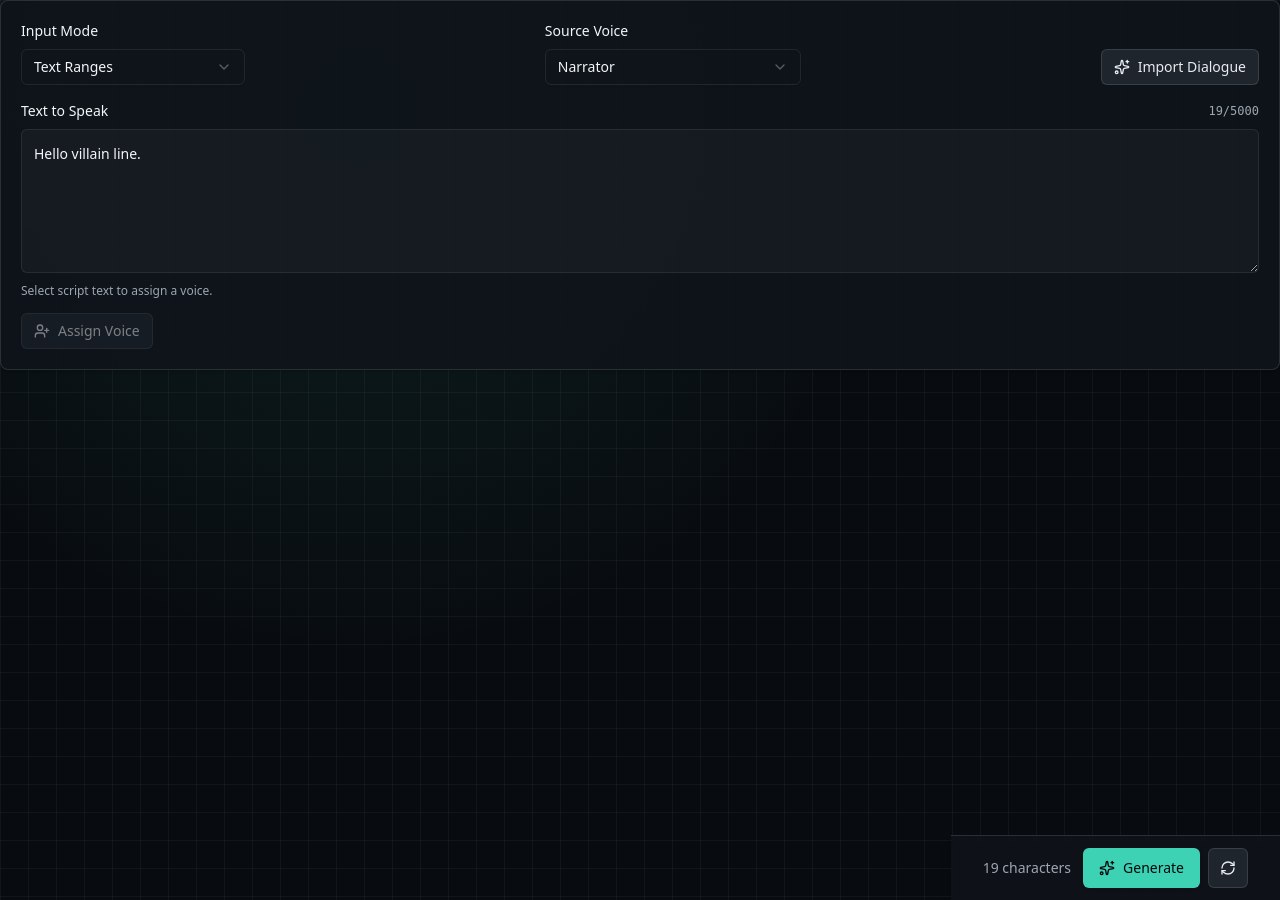
Test: SpeechInputPanel voice assignments › explains why assignment is disabled when no text is selected
The width and height of the screenshot is (1280, 900).
Step 1. Hover over the element "Assign Voice" → (87, 331), box [21, 313, 153, 349]
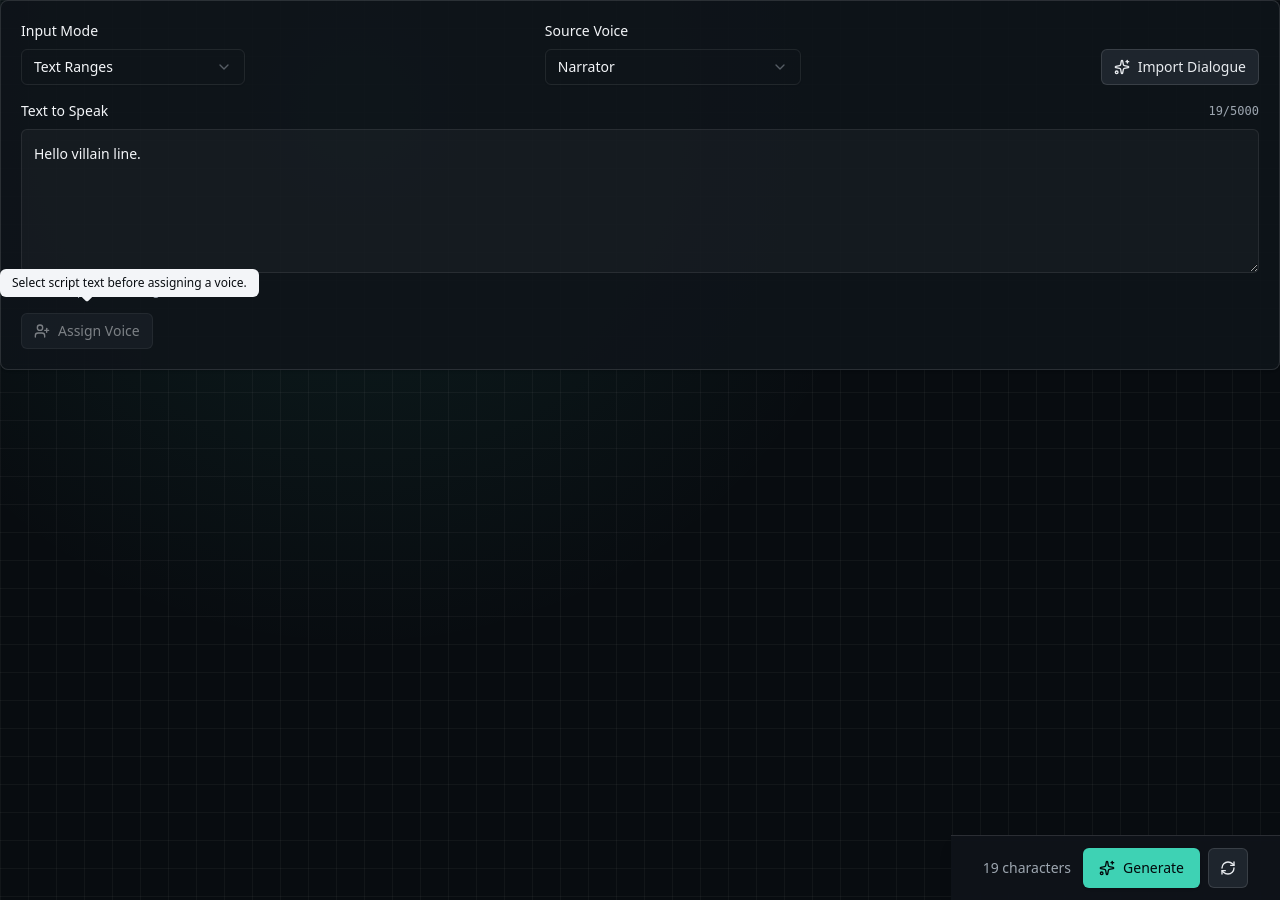
Result: the tooltip reads "Select script text before assigning a voice." at [12, 274, 247, 291]
